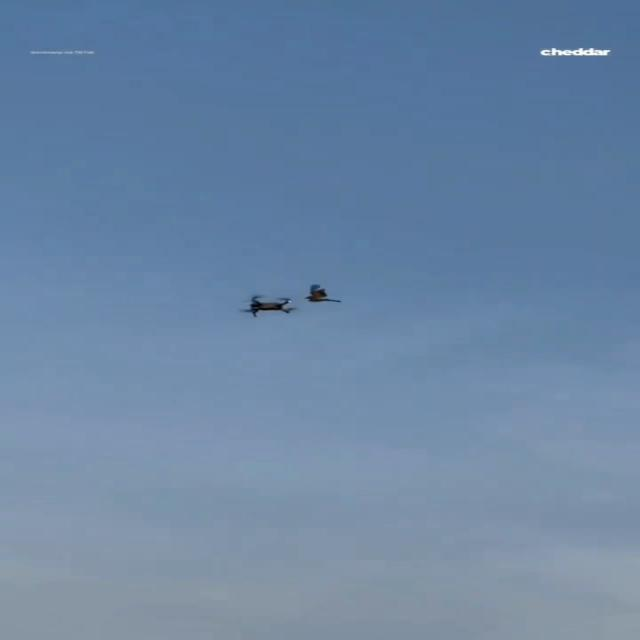bird: (304, 284, 341, 302)
drone: (242, 294, 292, 318)
